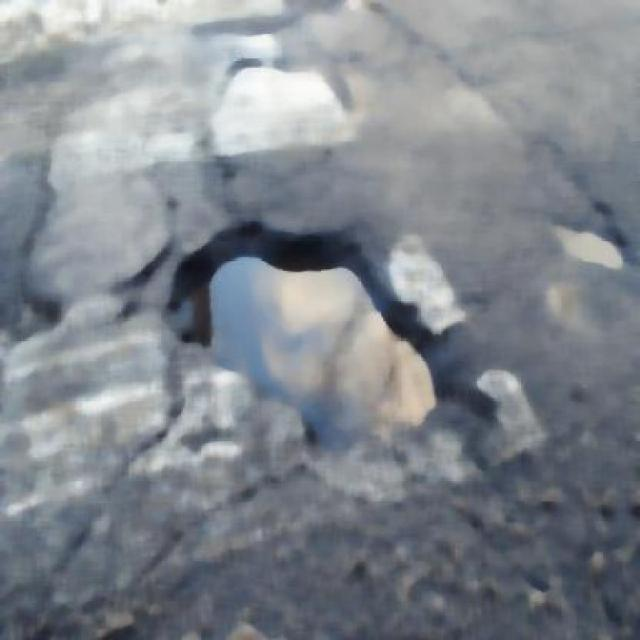Pothole: (189, 247, 431, 475)
